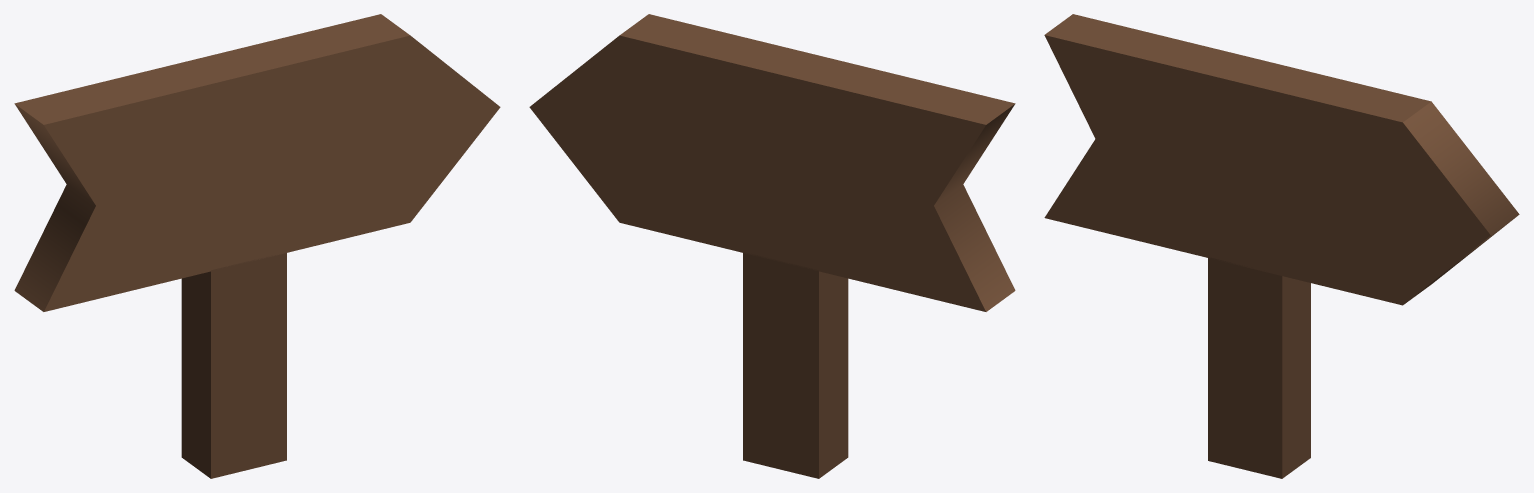
File: sign.fbx
3 views of the same model, side by side, from view 1: azimuth 30°, elevation 25°; view 2: azimuth 150°, elevation 25°; view 3: azimuth 330°, elevation 25° (orthographic). The views are drawn at different scales.
Parts seen in each view (by area): view 1: pCube6; view 2: pCube6; view 3: pCube6.
Part boxes in pixels (x1,y1,x2,y2): pCube6: [14, 14, 500, 478]; pCube6: [529, 14, 1015, 478]; pCube6: [1044, 14, 1519, 478].
Size of the model in its own units: 1.66 by 1.37 by 0.1848.
